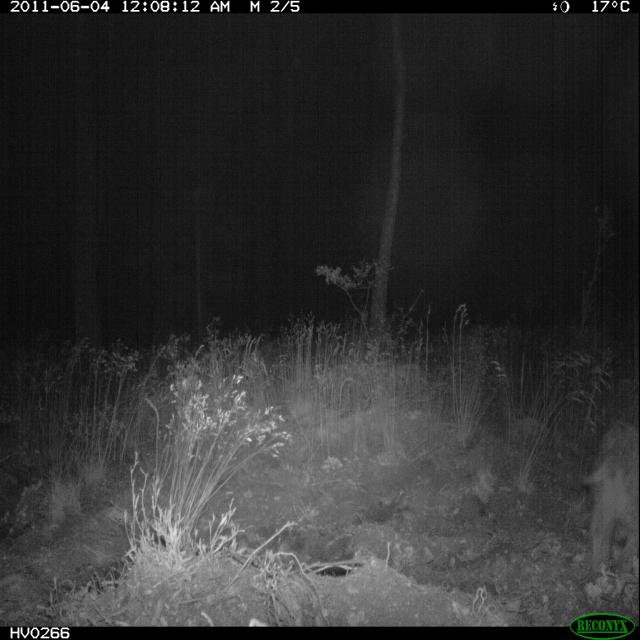boar: (573, 396, 640, 575)
